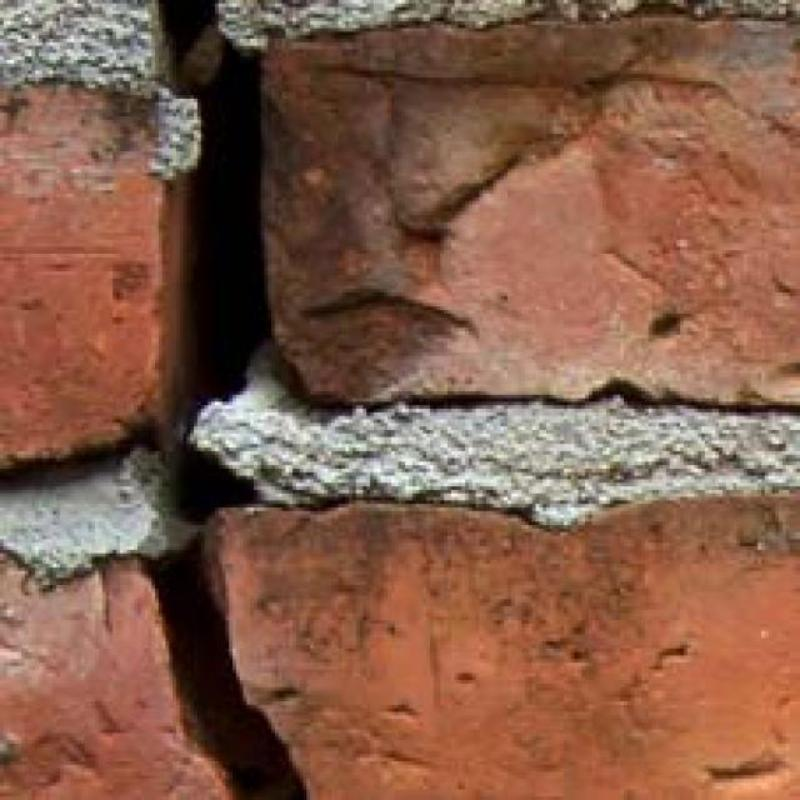pothole: (162, 0, 270, 523), (258, 340, 799, 419), (148, 538, 306, 799), (0, 425, 158, 490)
